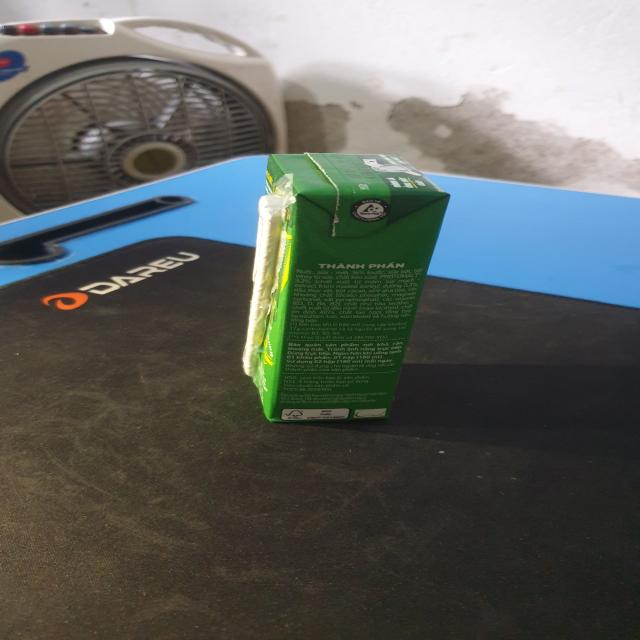Milo: (235, 152, 454, 428)
